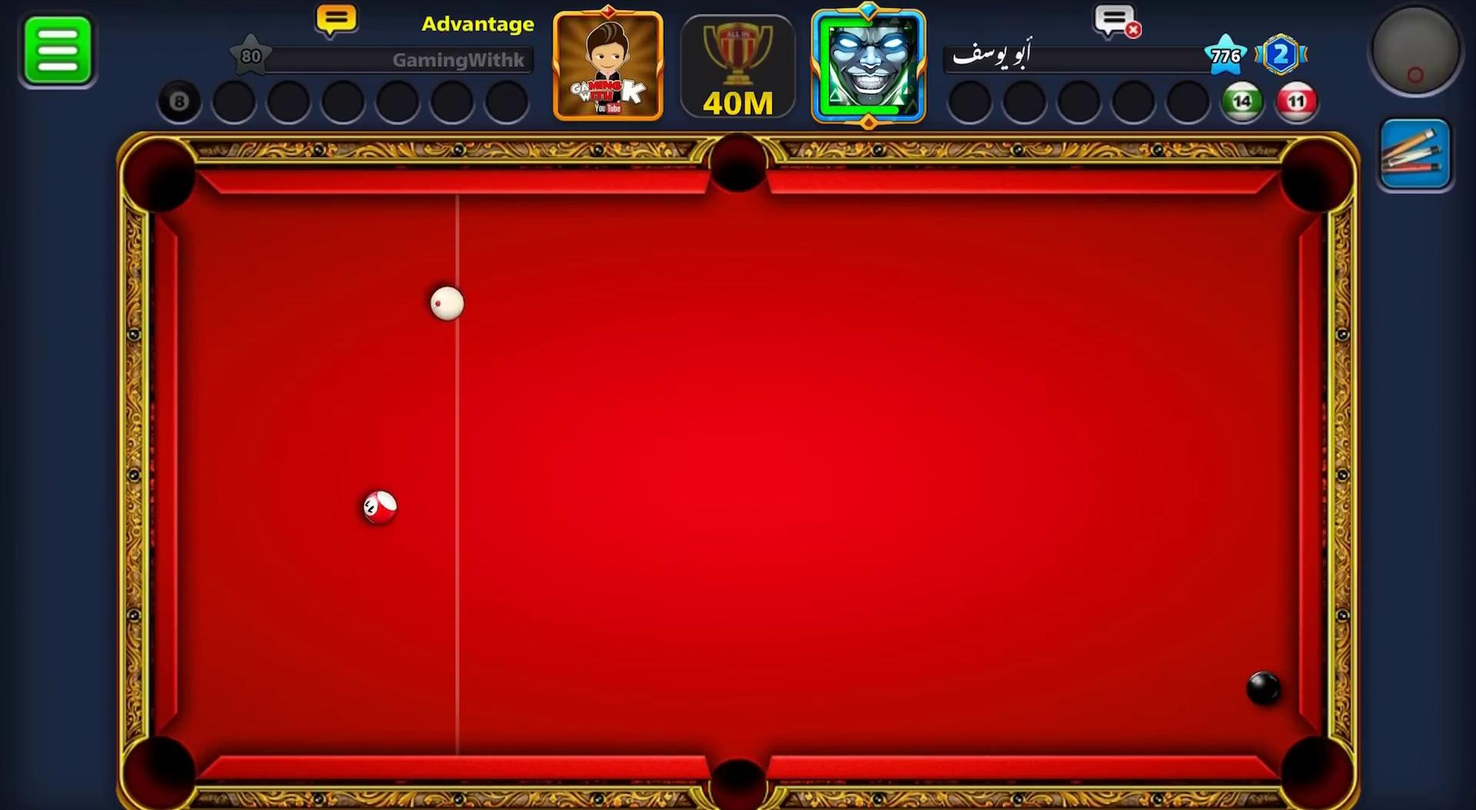Ball: (1237, 662, 1294, 709), (357, 488, 397, 529)
Hole: (1255, 718, 1372, 809), (1277, 136, 1356, 216), (122, 135, 198, 212), (122, 733, 199, 808), (704, 755, 771, 809), (707, 133, 768, 192)
Play_Area: (177, 195, 1295, 759)
Spin: (1364, 2, 1475, 106)
White: (425, 283, 465, 324)
